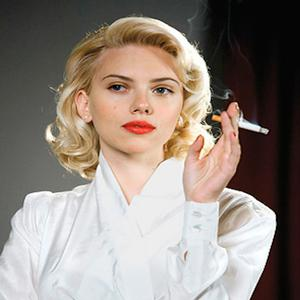cigarette: (209, 111, 271, 137)
